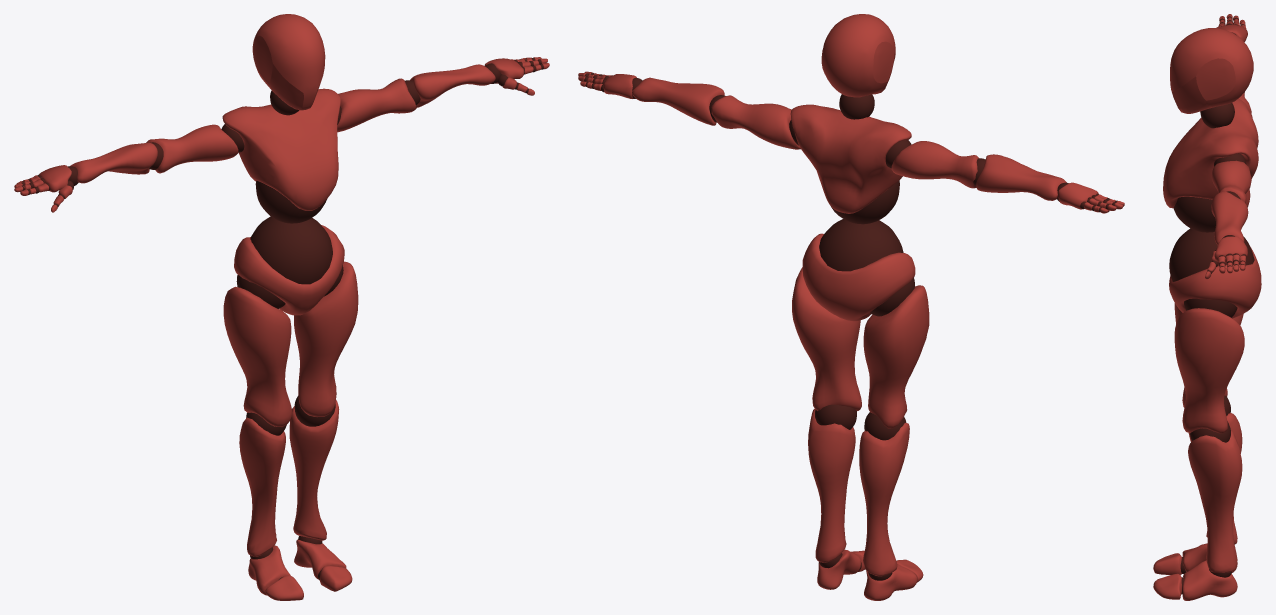
File: look_version_one.fbx
3 renders of one model, left to right at view 1: azimuth 30°, elevation 25°; view 2: azimuth 150°, elevation 25°; view 3: azimuth 270°, elevation 25°, orthographic. The views are drawn at different scales.
Visible parts, largest first — view 1: Beta_Surface, Beta_Joints; view 2: Beta_Surface, Beta_Joints; view 3: Beta_Surface, Beta_Joints.
Part boxes in pixels (left/top/right/bottom): Beta_Surface: left=14, top=14, right=549, bottom=600; Beta_Joints: left=21, top=57, right=543, bottom=579; Beta_Surface: left=578, top=14, right=1124, bottom=600; Beta_Joints: left=584, top=72, right=1117, bottom=580; Beta_Surface: left=1153, top=14, right=1261, bottom=600; Beta_Joints: left=1169, top=16, right=1254, bottom=594.
Size of the model in its own units: 1805 by 321 by 1809.
